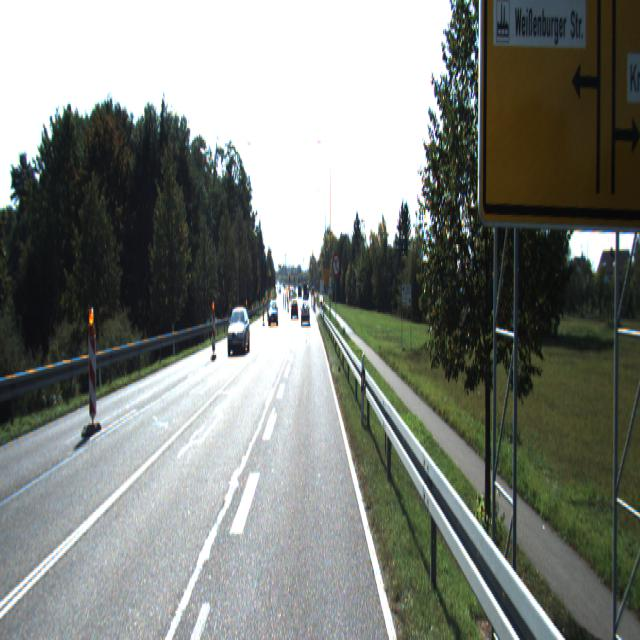Car: (227, 305, 250, 359), (302, 302, 310, 324)
